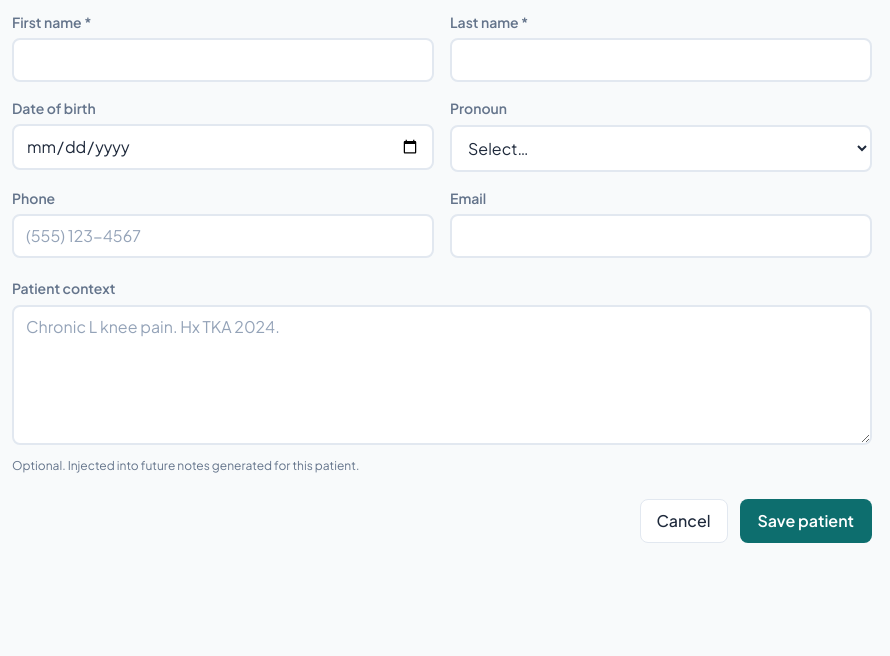
Scenario: PatientCreateForm › server-side validation_error with fieldErrors surfaces in UI
The image size is (890, 656).
Type "X" into the field labelled "First name *" at (223, 60), box [12,38,434,82]
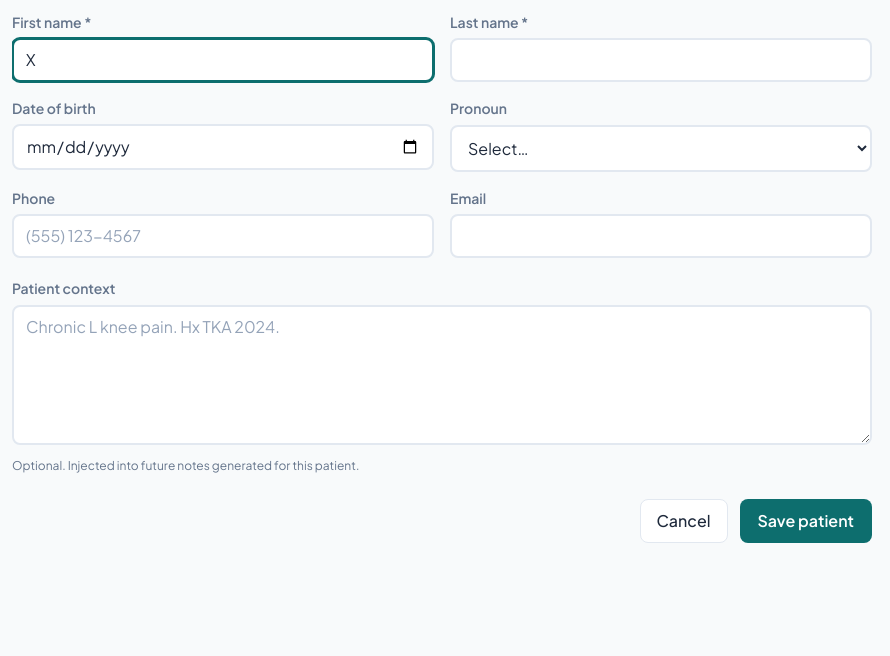
Type "Y" into the field labelled "Last name *" at (661, 60), box [450,38,872,82]
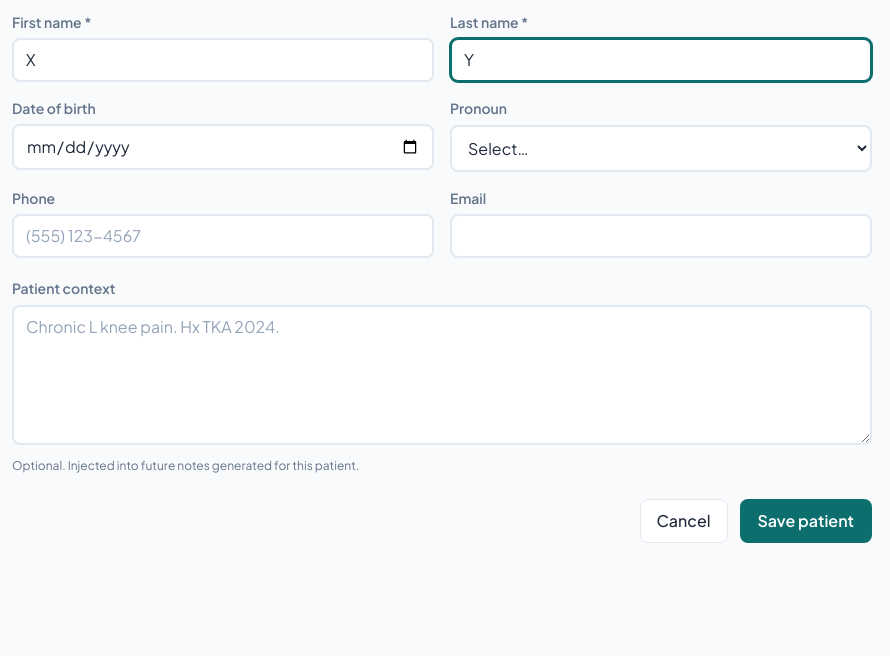
Click the button "Save patient" at (806, 521), box [740,499,872,543]
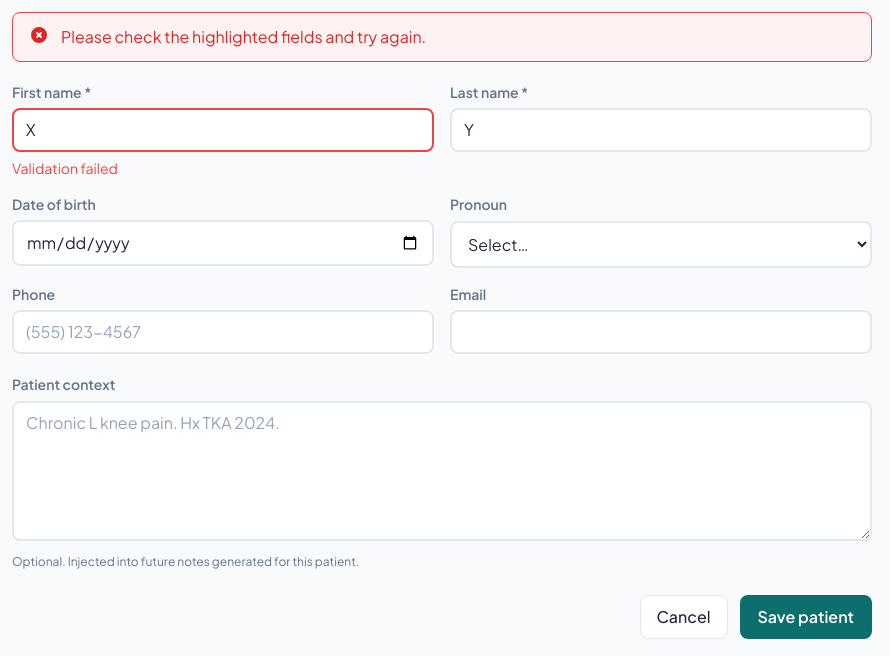
Result: the text "Please check the highlighted fields and try again." is shown at [61,26,426,47]
